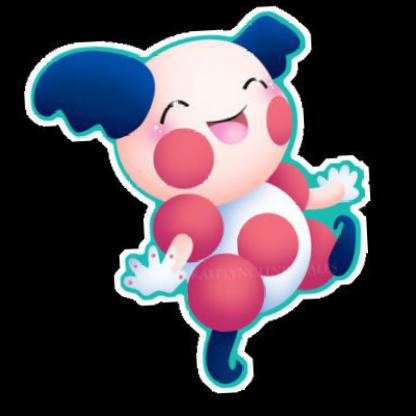Pantimos: (10, 10, 415, 415)
